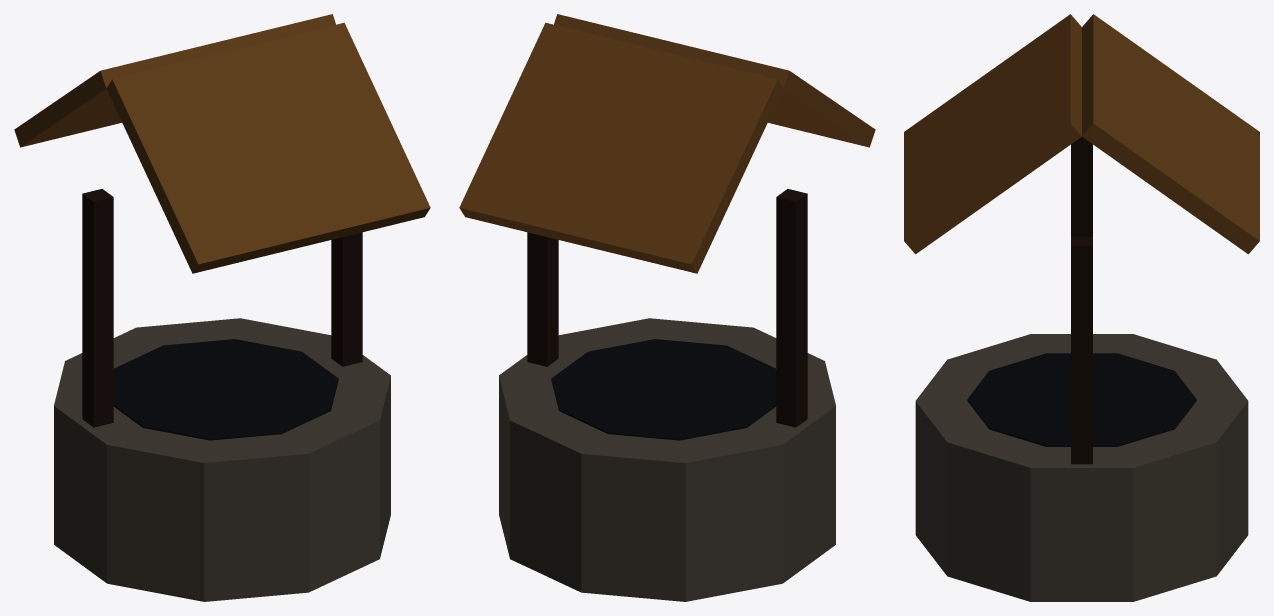
Rendered from well.fbx.
3 views of the same model, side by side, from view 1: azimuth 30°, elevation 25°; view 2: azimuth 150°, elevation 25°; view 3: azimuth 270°, elevation 25° (orthographic). The views are drawn at different scales.
Visible parts, largest first — view 1: well; view 2: well; view 3: well.
Part boxes in pixels (left/top/right/bottom): well: left=14, top=14, right=430, bottom=601; well: left=459, top=14, right=875, bottom=601; well: left=904, top=14, right=1259, bottom=601.
Bounding box in the file's own units: 1.71 × 2.78 × 1.92.
